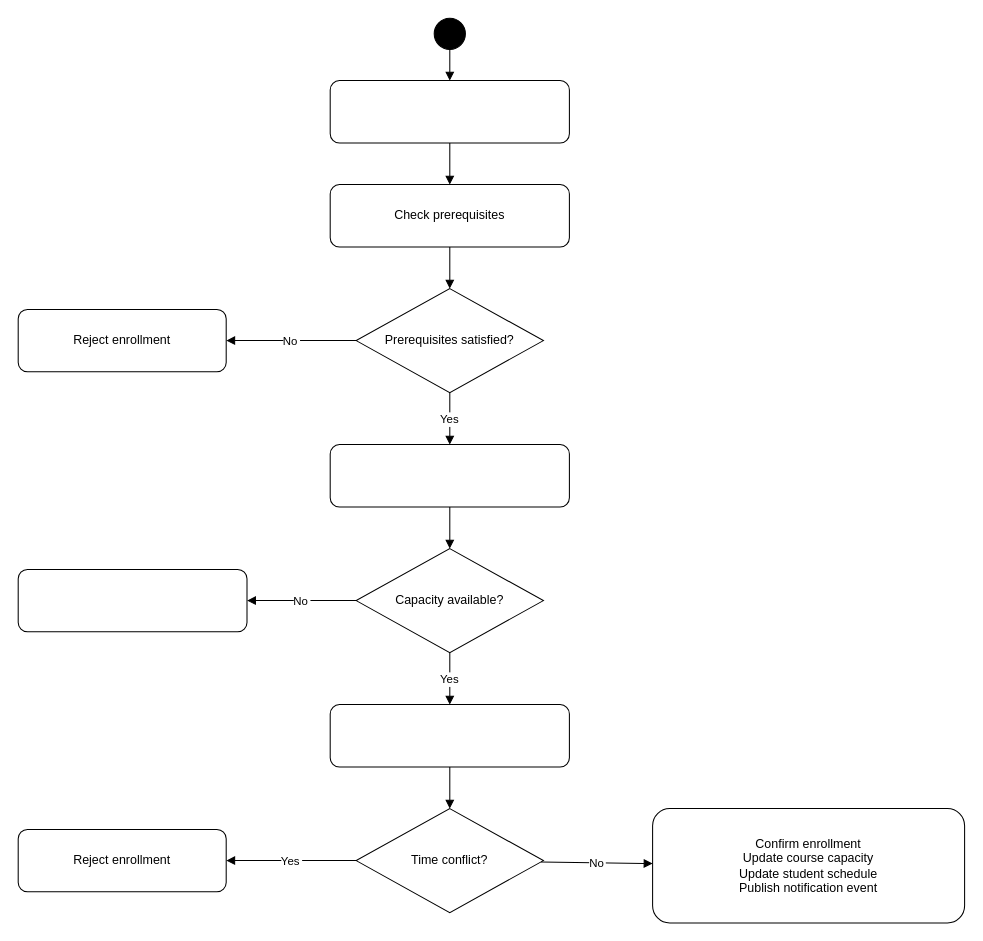
This 983x941 diagram has some shape labels left out. Each missing label, with the centre of its shape:
"Check course capacity" goes at [449,475].
"Check time conflicts" goes at [449,735].
"Reject enrollment / Waitlist" goes at [132,600].
"Student requests enrollment" goes at [449,111].
